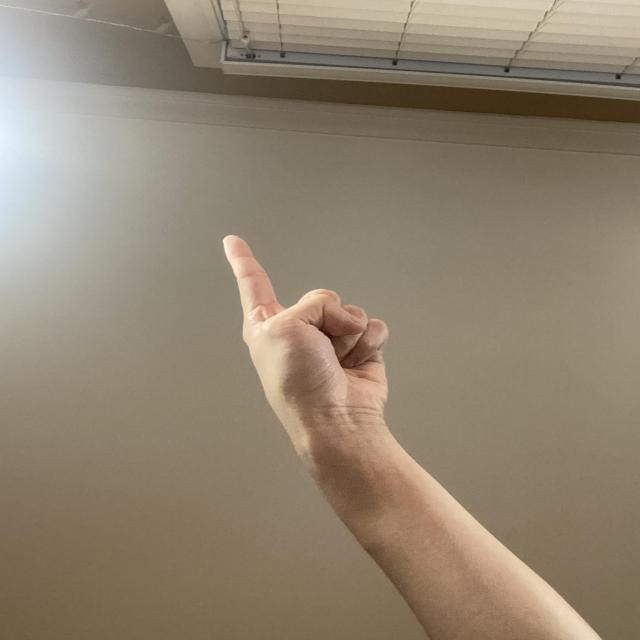Z: (208, 228, 404, 444)
